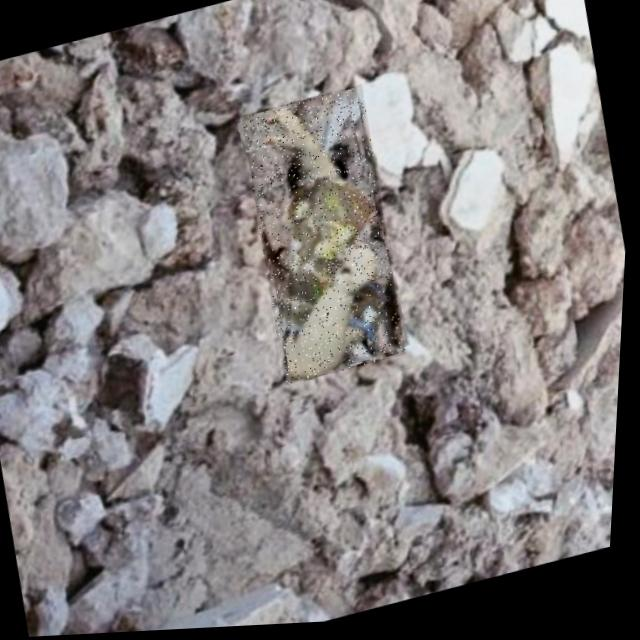Person in Rubble: (230, 86, 419, 391)
